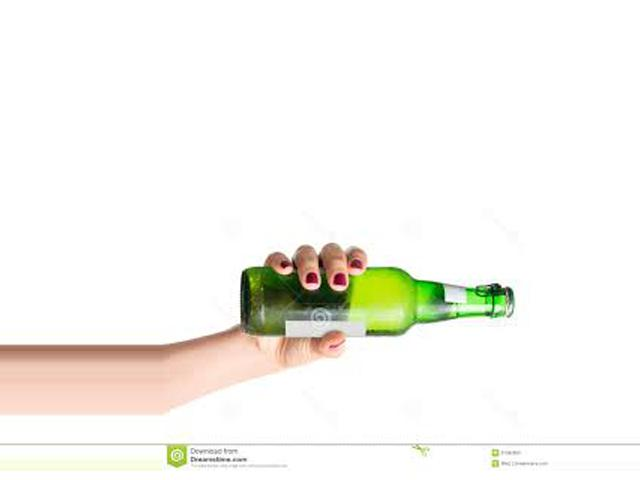beer: (240, 262, 514, 339)
